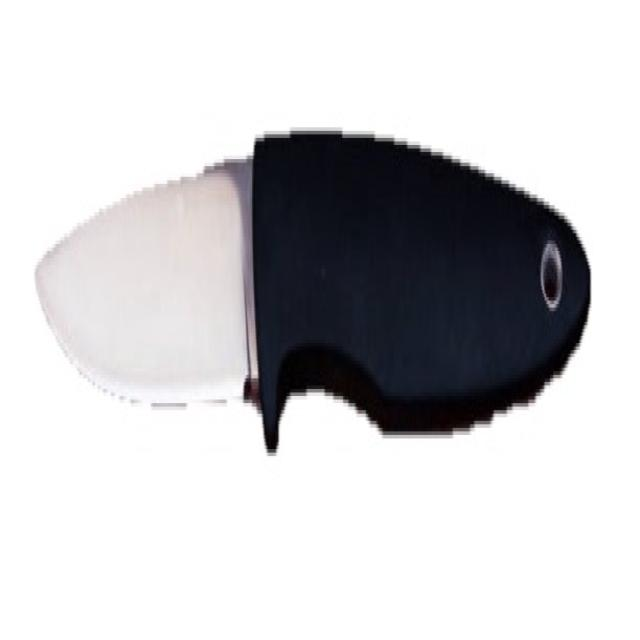knife: (34, 123, 592, 466)
